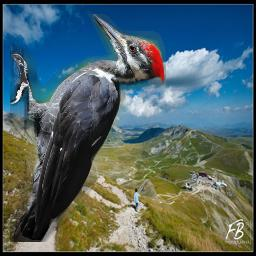Woodpecker: (10, 14, 166, 242)
